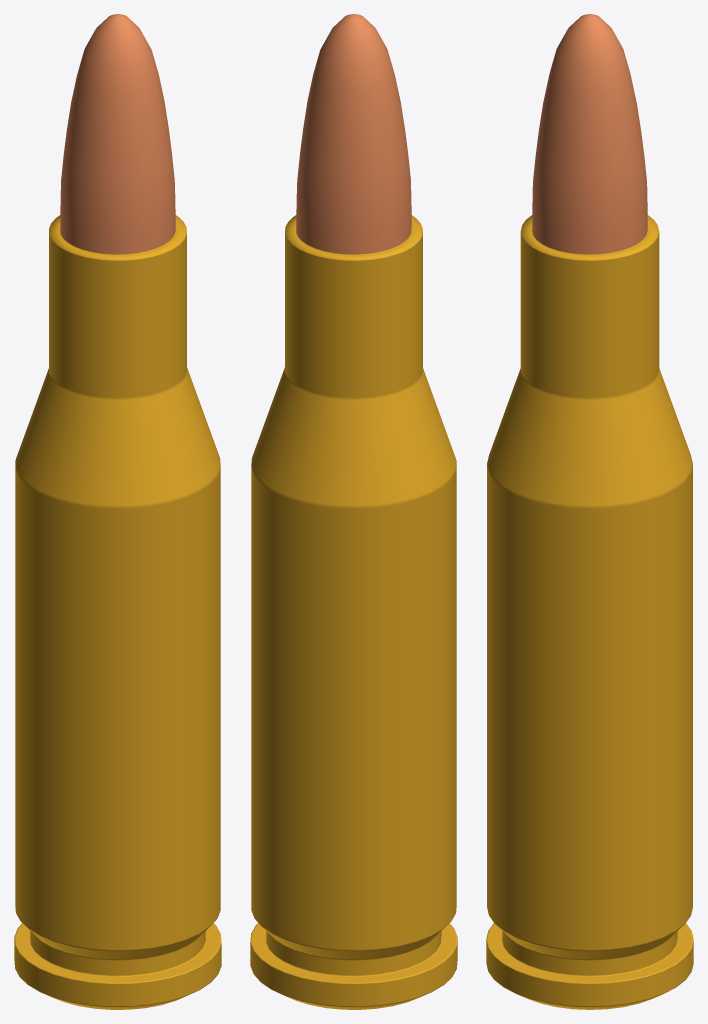
3 views of the same model, side by side, from view 1: azimuth 30°, elevation 25°; view 2: azimuth 150°, elevation 25°; view 3: azimuth 270°, elevation 25° (orthographic).
Visible parts, largest first — view 1: Circle; view 2: Circle; view 3: Circle.
Part boxes in pixels (<box>): Circle: <box>14,14,221,1009</box>; Circle: <box>250,14,457,1009</box>; Circle: <box>486,14,693,1009</box>.
Bounding box in the file's own units: 0.8263 × 4.21 × 0.8263.
